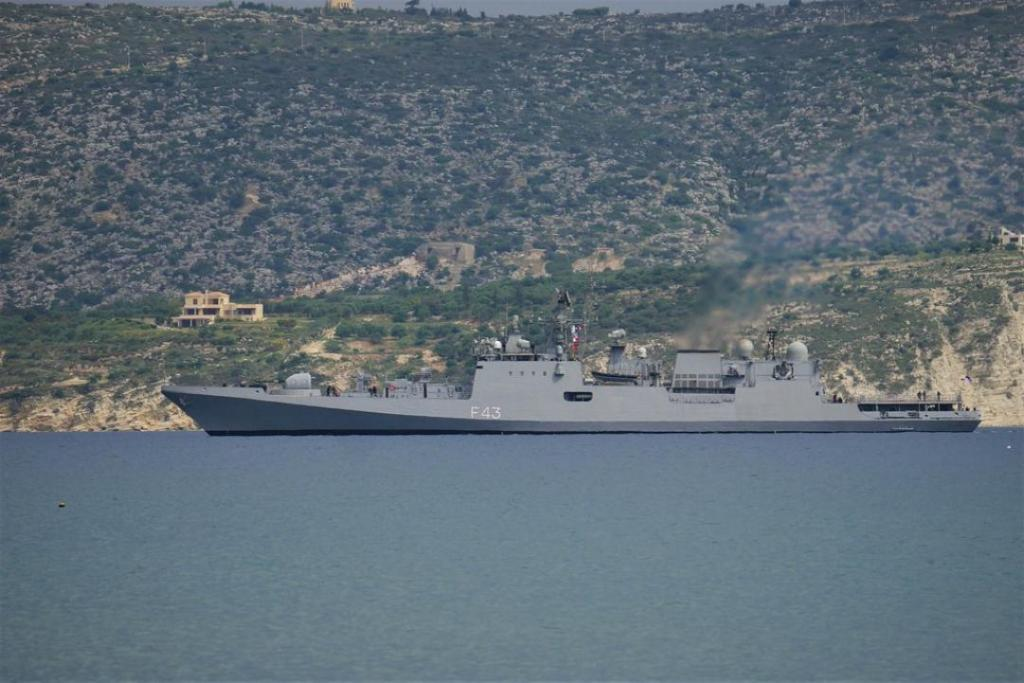Warship: (160, 282, 988, 436)
